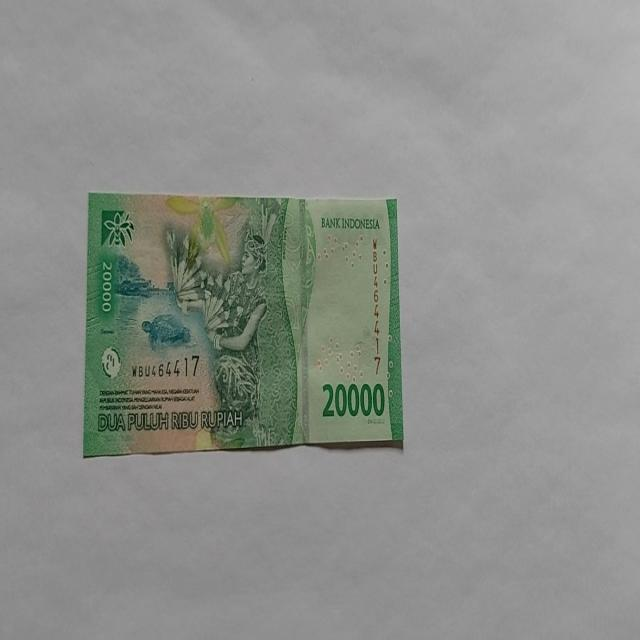dua puluh ribu rupiah: (83, 191, 404, 457)
